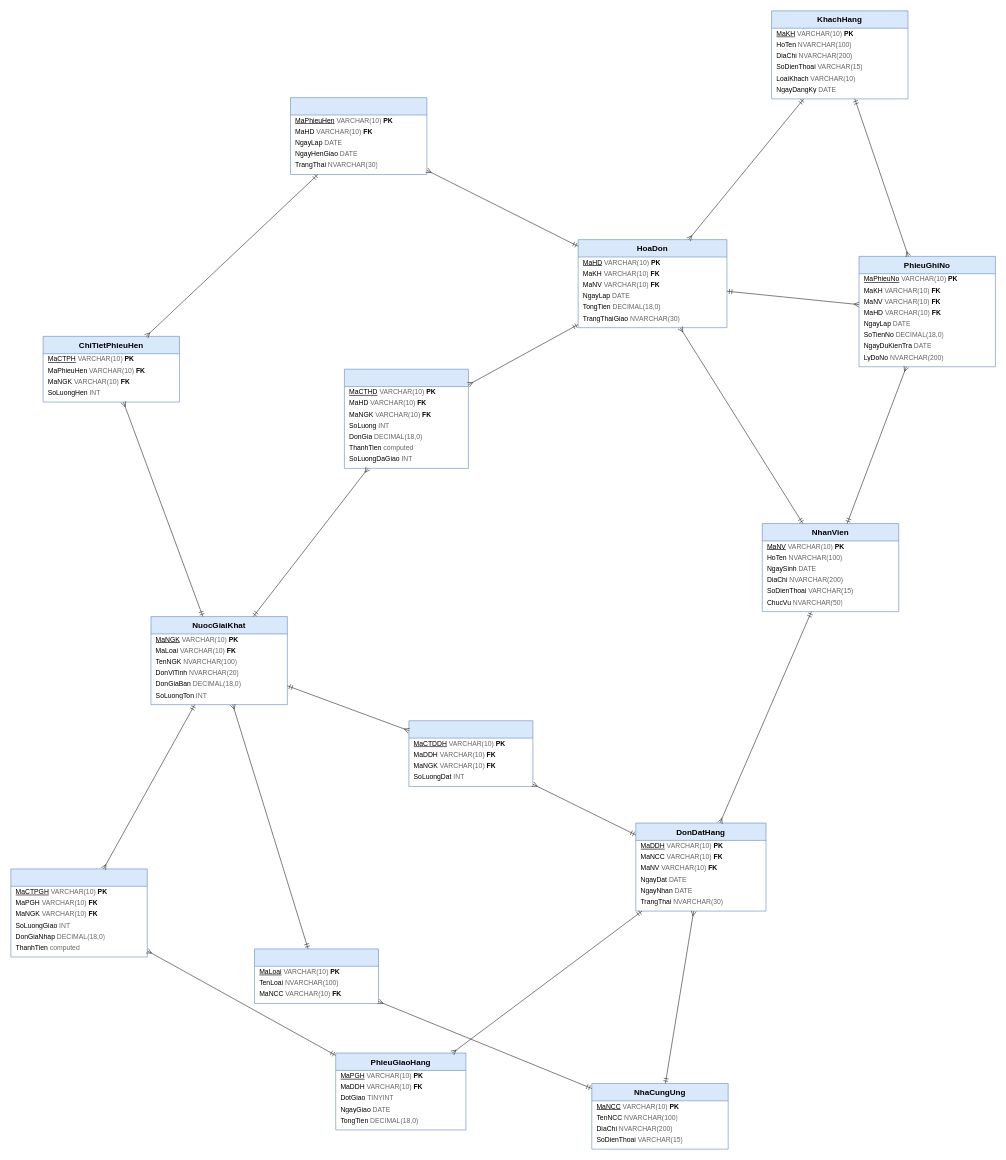
This 1006x1160 diagram has some shape labels left out. Here are the shapes that lost their labels. From the top down, the box of each, then its label:
(290, 97, 427, 175): PhieuHenGiao
(344, 369, 468, 468): ChiTietHoaDon
(408, 720, 533, 786): ChiTietDonDatHang
(10, 868, 147, 957): ChiTietPhieuGiao
(254, 948, 379, 1003): LoaiNuocGiaiKhat
